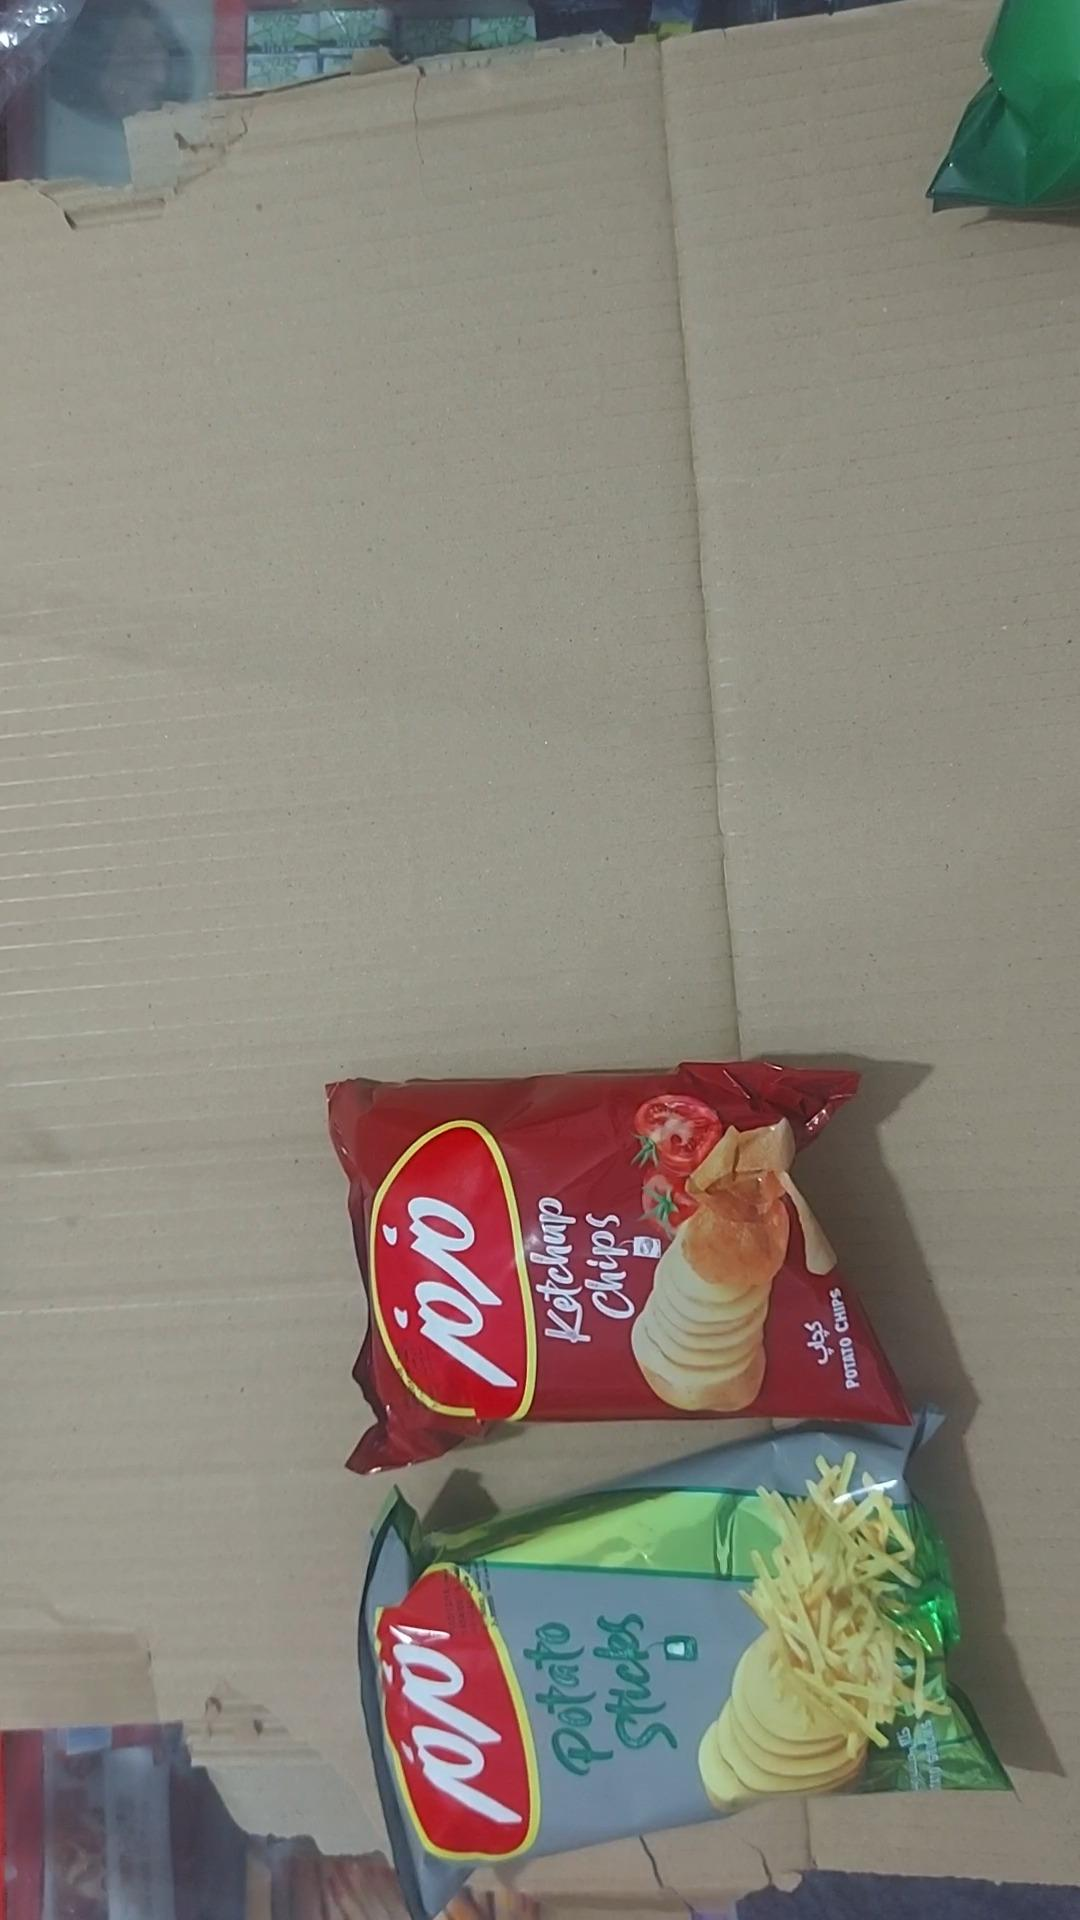Maz Maz ketchup chips: (324, 1062, 913, 1478)
Maz Maz potato sticks: (355, 1408, 1011, 1919)
